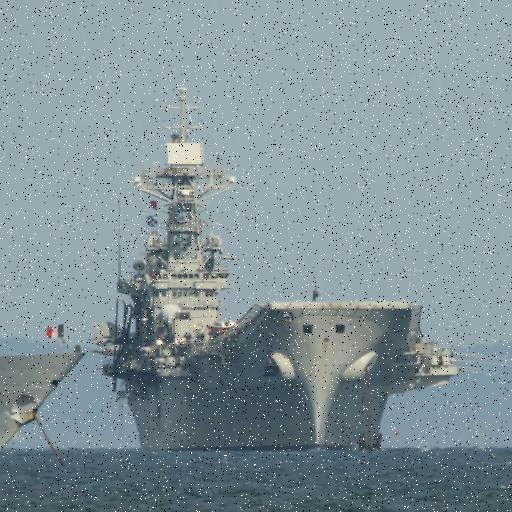Portanaves: (89, 84, 467, 455)
